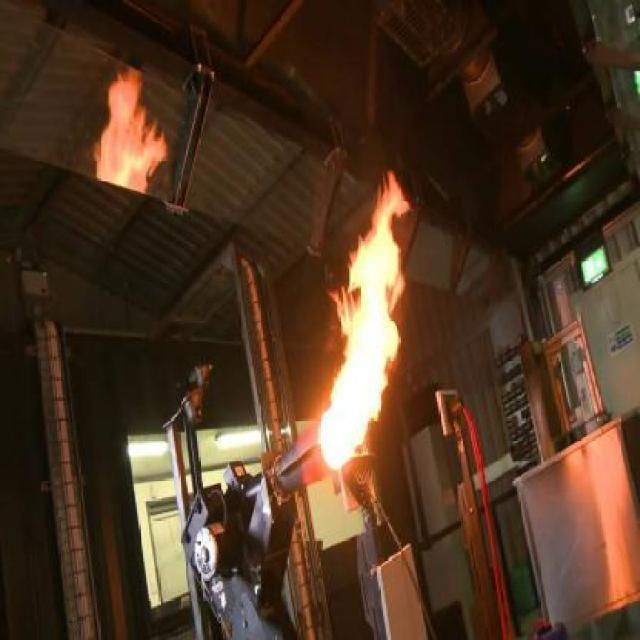fire: (317, 194, 402, 468)
